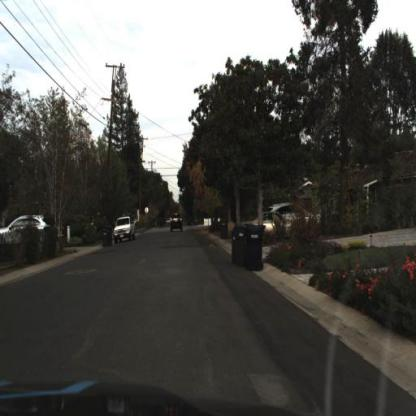car: (1, 215, 53, 253), (250, 213, 300, 241), (268, 201, 325, 224), (248, 210, 288, 242), (271, 201, 318, 224), (111, 214, 138, 241), (114, 216, 136, 244), (169, 211, 185, 236)
